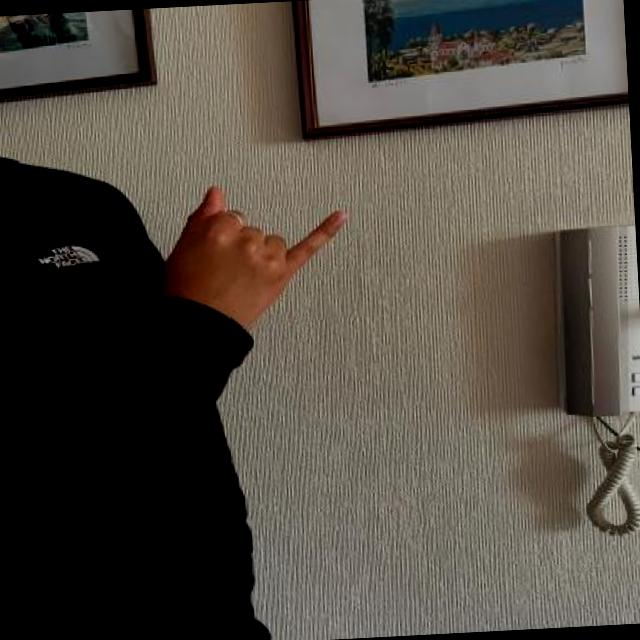J: (158, 174, 364, 334)
